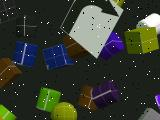Right: (60, 0, 124, 59)
